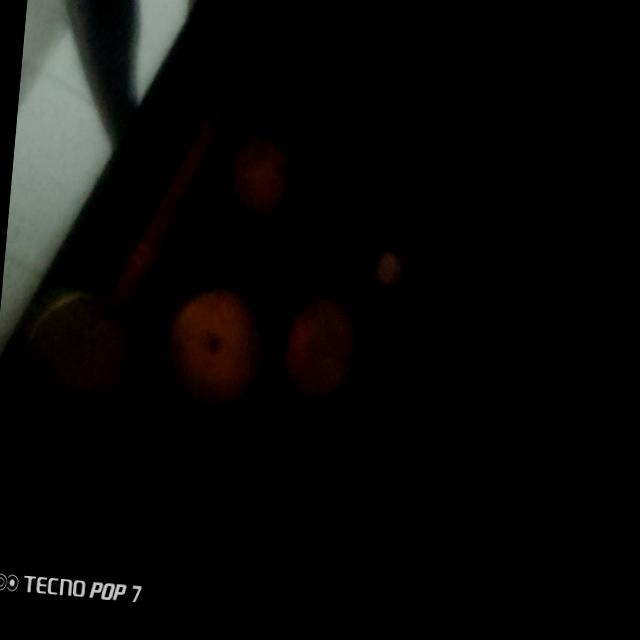agrume: (22, 287, 146, 417), (162, 279, 261, 413), (271, 299, 362, 412), (229, 137, 281, 209)
